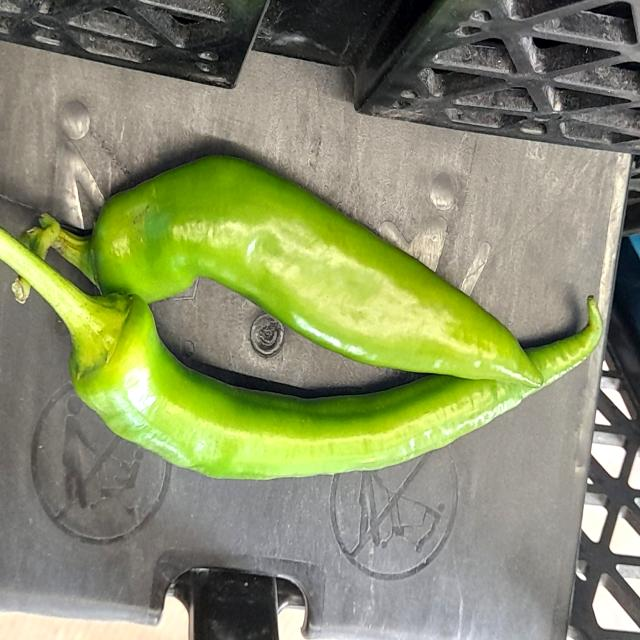green pepper: (58, 124, 546, 393), (0, 272, 626, 463)
